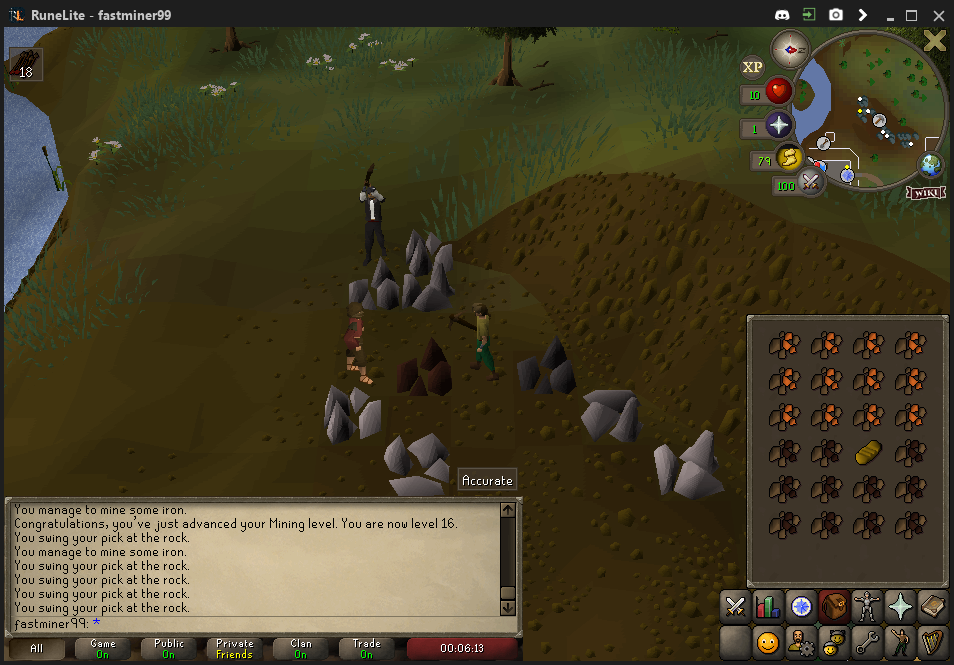depleted: (507, 343, 594, 395)
ore: (394, 333, 460, 398)
